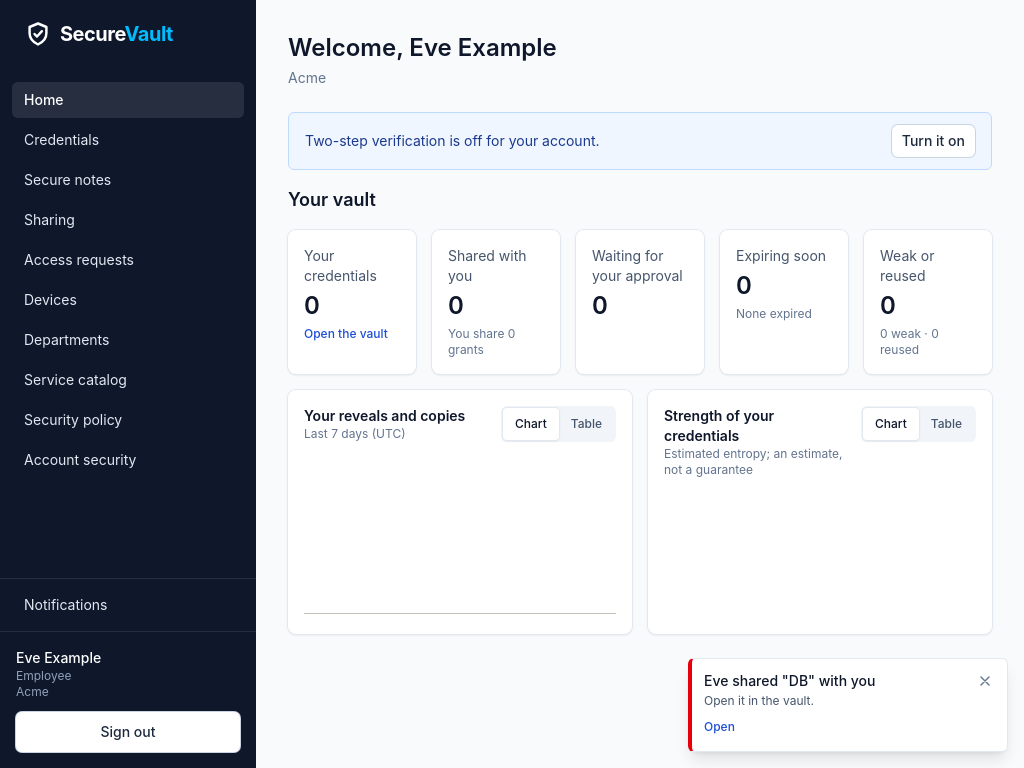
Test: notification toasts › dismissing hides the toast without touching the stored notification, and it does not come back when delivered again
Check: the heading "Welcome, Eve Example" is shown, box [288,32,557,64]
Click the button named "Dismiss: " at (985, 681), box [971,667,999,695]
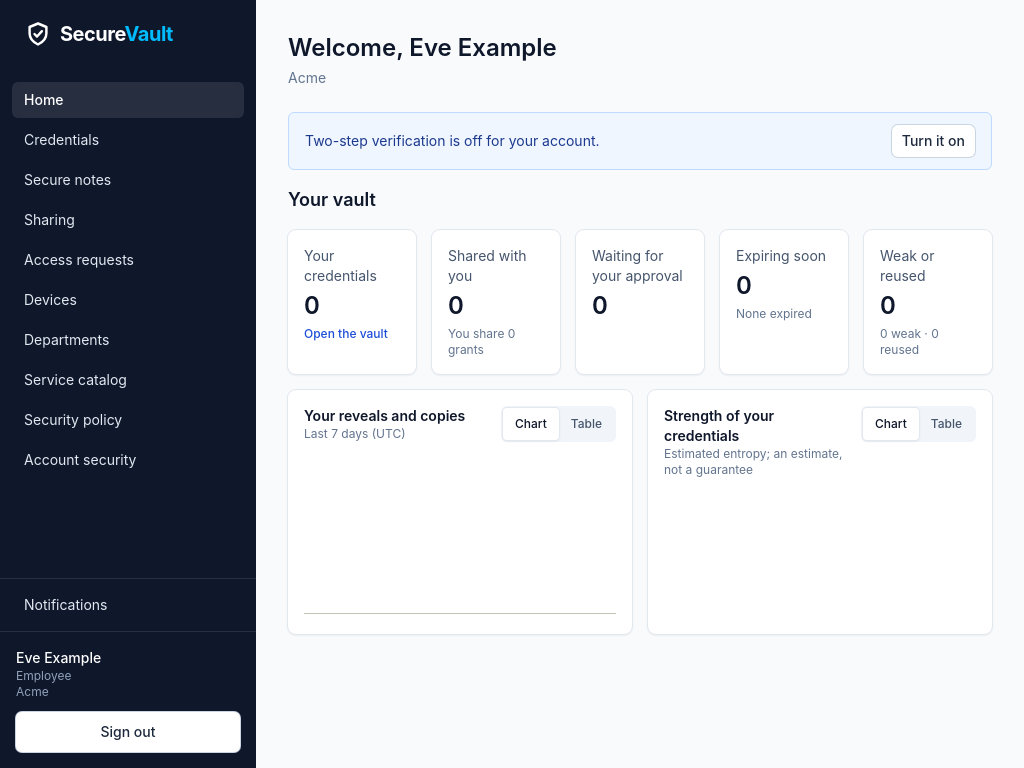
Check: the text "Eve shared \"DB\" with you" is gone
